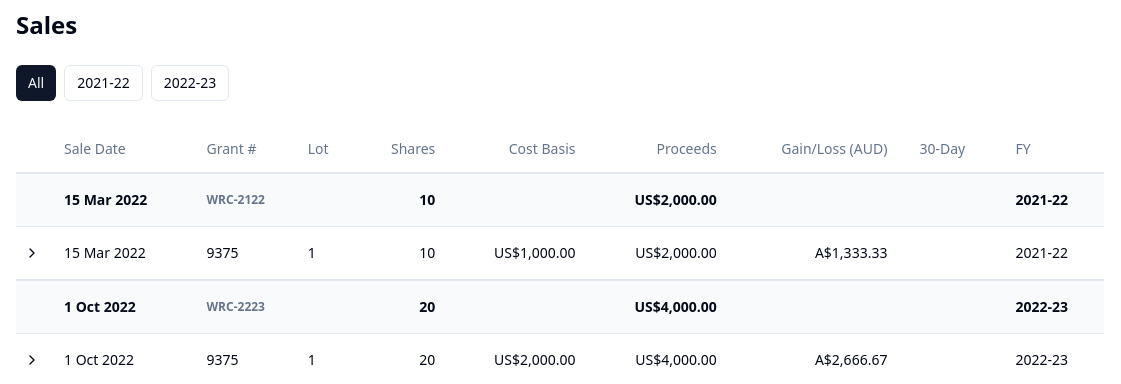
Test: SalesPage FY filtering › filters out lots from other FYs when a specific FY is selected
The image size is (1121, 384).
Expected: the text "WRC-2122" is shown, [190,173,357,226]
# Select FY 2022-23
Step 1. Click the button "2022-23" → (190, 83), box [151,65,229,101]
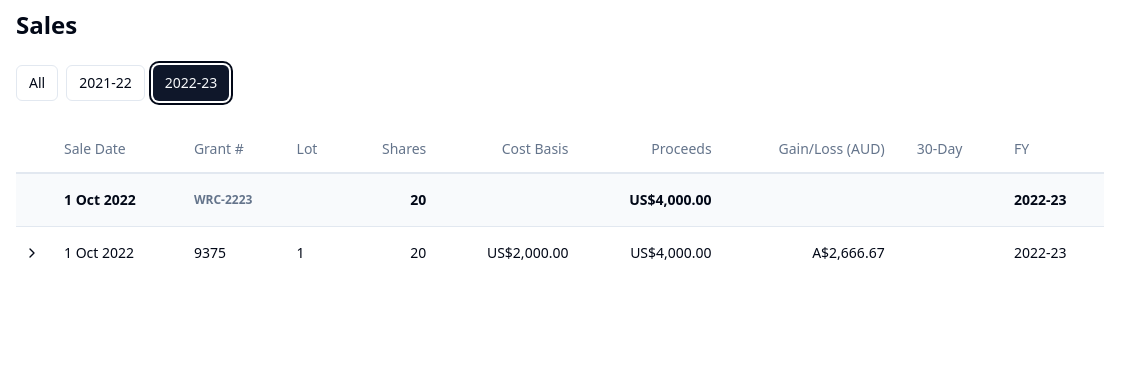
Expected: the text "WRC-2223" is shown, [178,173,347,226]
Now the text "WRC-2122" is gone
